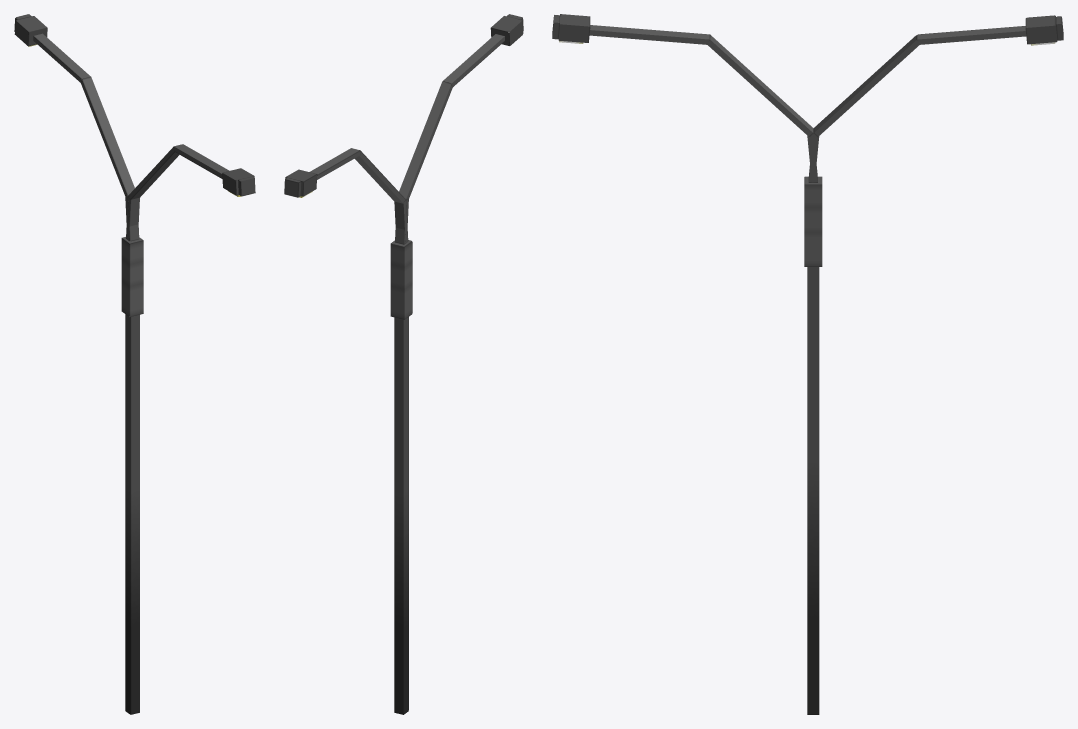
The model's file is street_light_middle.obj.
3 views of the same model, side by side, from view 1: azimuth 30°, elevation 25°; view 2: azimuth 150°, elevation 25°; view 3: azimuth 270°, elevation 25° (orthographic). The views are drawn at different scales.
Visible parts, largest first — view 1: baseModel0, baseModel1, baseModel3, baseModel4, baseModel9, baseModel5, baseModel10, baseModel11; view 2: baseModel0, baseModel1, baseModel9, baseModel10, baseModel3, baseModel11, baseModel4, baseModel5, baseModel2; view 3: baseModel0, baseModel1, baseModel9, baseModel3, baseModel10, baseModel4, baseModel5, baseModel11.
Part boxes in pixels (x1=…): baseModel0: x1=125, y1=243, x2=139, y2=714; baseModel1: x1=121, y1=237, x2=143, y2=316; baseModel3: x1=81, y1=77, x2=134, y2=196; baseModel4: x1=28, y1=32, x2=90, y2=83; baseModel9: x1=128, y1=147, x2=179, y2=199; baseModel5: x1=14, y1=16, x2=47, y2=46; baseModel10: x1=173, y1=144, x2=229, y2=178; baseModel11: x1=222, y1=168, x2=254, y2=195; baseModel0: x1=394, y1=317, x2=408, y2=714; baseModel1: x1=390, y1=240, x2=412, y2=319; baseModel9: x1=399, y1=81, x2=452, y2=199; baseModel10: x1=442, y1=34, x2=504, y2=87; baseModel3: x1=354, y1=151, x2=405, y2=203; baseModel11: x1=490, y1=16, x2=523, y2=45; baseModel4: x1=303, y1=148, x2=360, y2=182; baseModel5: x1=285, y1=169, x2=317, y2=196; baseModel2: x1=394, y1=200, x2=408, y2=243; baseModel0: x1=807, y1=267, x2=819, y2=714; baseModel1: x1=804, y1=176, x2=822, y2=266; baseModel9: x1=706, y1=35, x2=813, y2=136; baseModel3: x1=813, y1=35, x2=920, y2=136; baseModel10: x1=589, y1=25, x2=710, y2=44; baseModel4: x1=917, y1=26, x2=1026, y2=44; baseModel5: x1=1025, y1=15, x2=1057, y2=44; baseModel11: x1=558, y1=14, x2=590, y2=42.
Bounding box in the file's own units: 0.25 × 7.86 × 5.25.
1 material, 1 textured.
